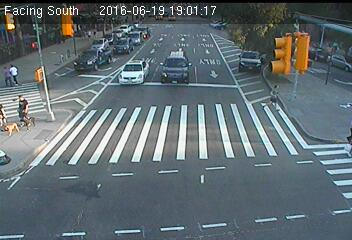neg: (51, 45, 78, 81), (86, 51, 110, 84), (187, 55, 211, 86), (143, 60, 161, 84), (233, 46, 245, 62)
pos: (8, 93, 32, 124), (263, 83, 285, 112)
